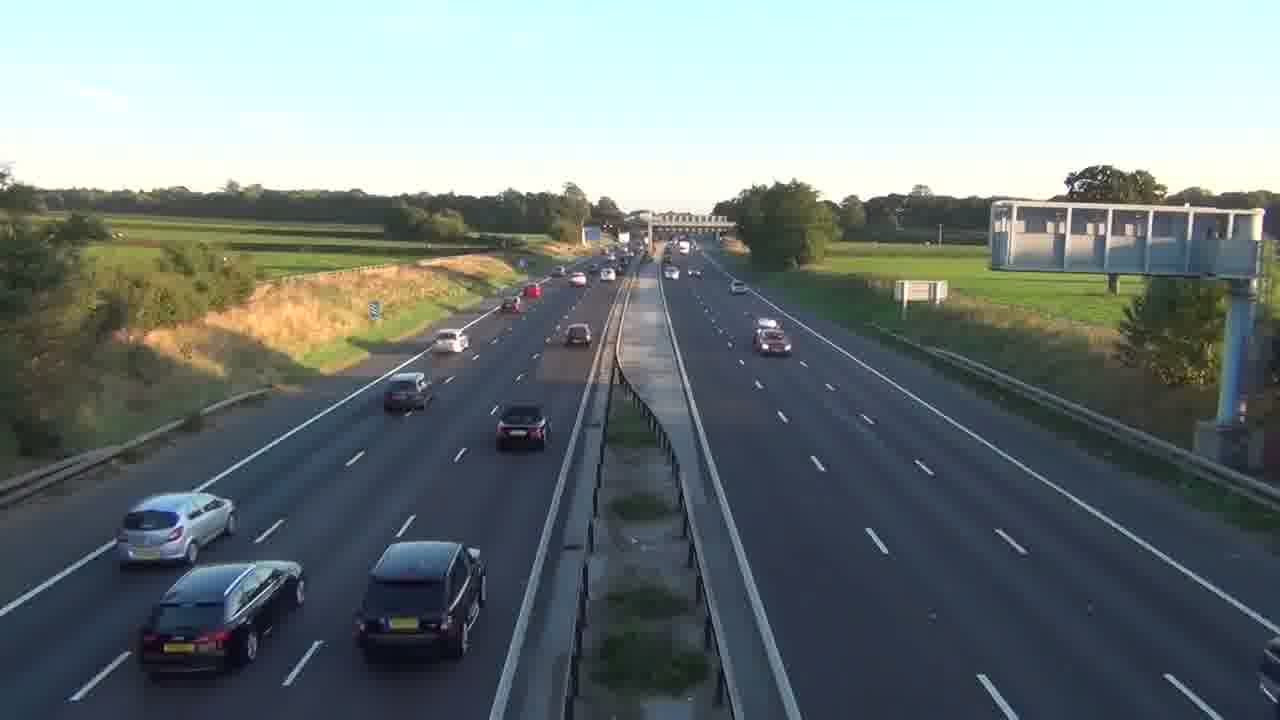car: (351, 538, 487, 661), (117, 491, 237, 567), (495, 402, 549, 452), (383, 372, 433, 415), (563, 322, 592, 346)
truck: (135, 558, 307, 680)
